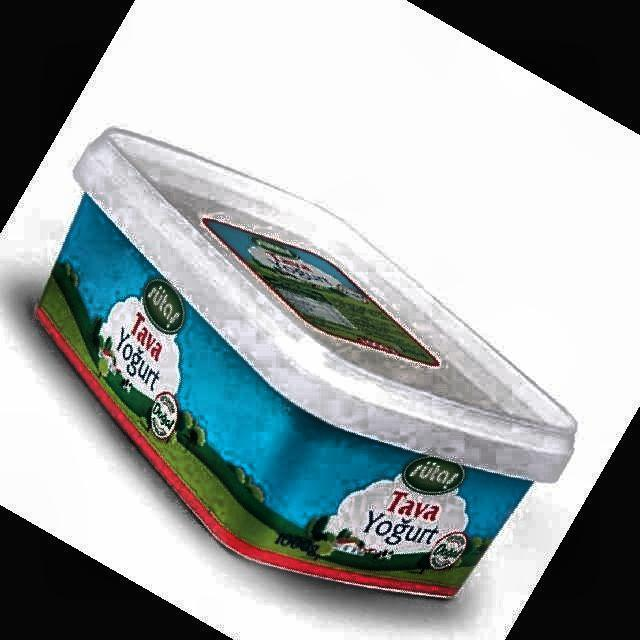plastic: (38, 130, 574, 597)
